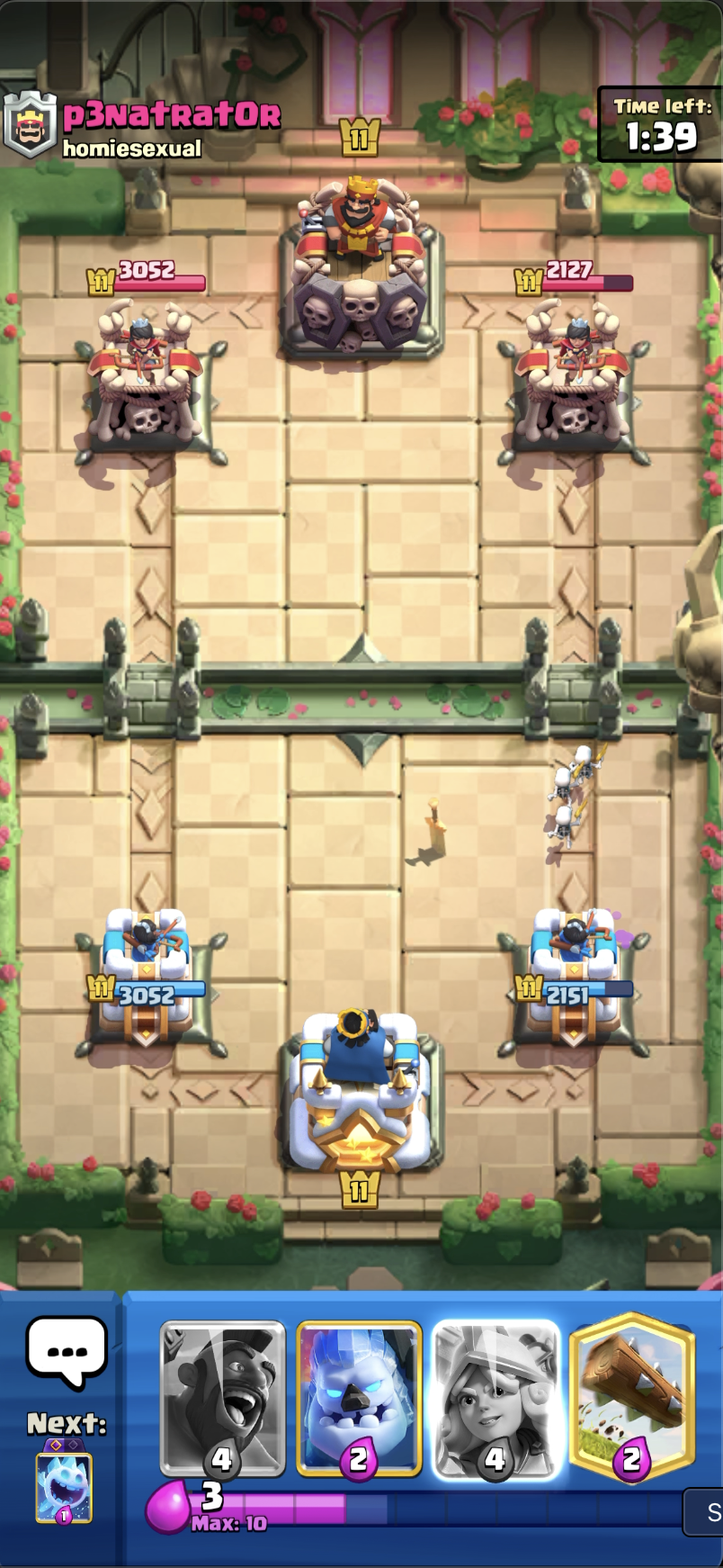skeleton: (543, 801, 590, 858), (567, 726, 609, 780), (552, 765, 581, 819)
